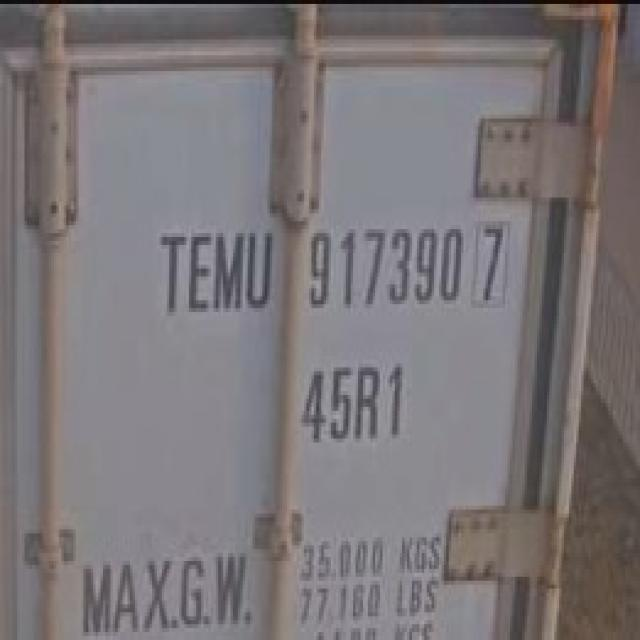dv: (475, 218, 510, 308)
owner: (156, 224, 274, 318)
serial: (304, 215, 464, 313)
size: (299, 359, 407, 447)
